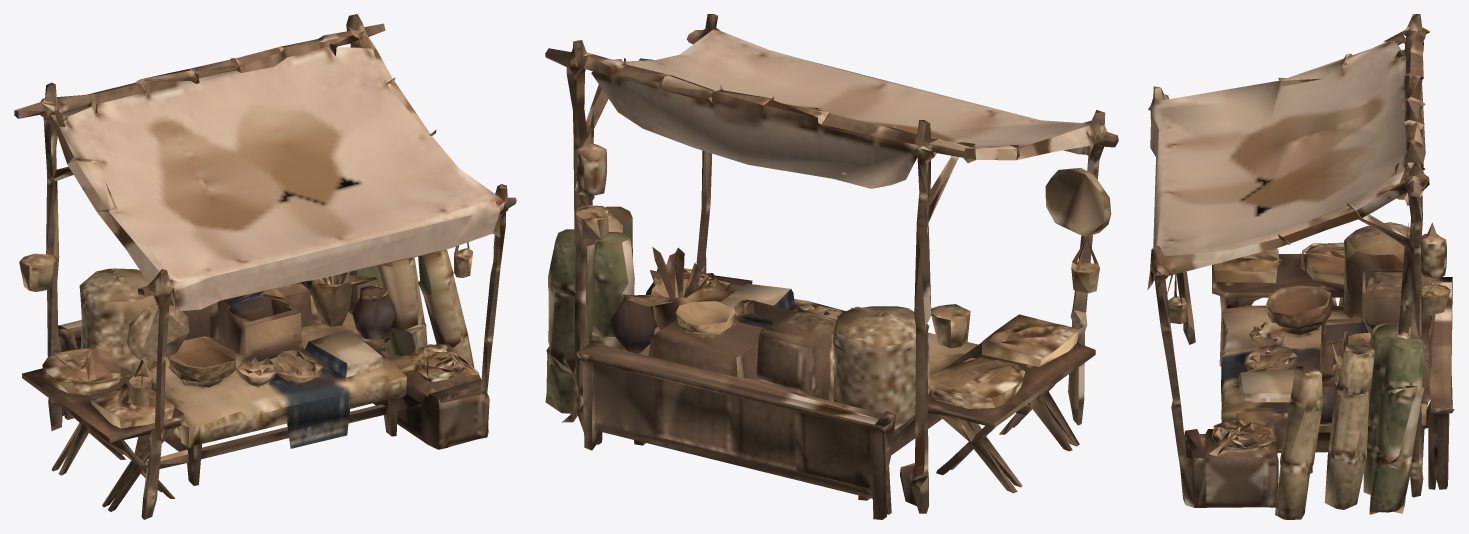
File: 03_General_Goods_Mat_Stall_LOD2.fbx
3 renders of one model, left to right at view 1: azimuth 30°, elevation 25°; view 2: azimuth 150°, elevation 25°; view 3: azimuth 270°, elevation 25°, orthographic. The views are drawn at different scales.
Parts seen in each view (by area): view 1: 03_General_Goods_Mat_Stall_L2; view 2: 03_General_Goods_Mat_Stall_L2; view 3: 03_General_Goods_Mat_Stall_L2.
Part boxes in pixels (x1=…): 03_General_Goods_Mat_Stall_L2: x1=14, y1=14, x2=516, y2=519; 03_General_Goods_Mat_Stall_L2: x1=545, y1=14, x2=1118, y2=519; 03_General_Goods_Mat_Stall_L2: x1=1147, y1=14, x2=1454, y2=519.
Bounding box in the file's own units: 3.03 × 2.5 × 2.02.
